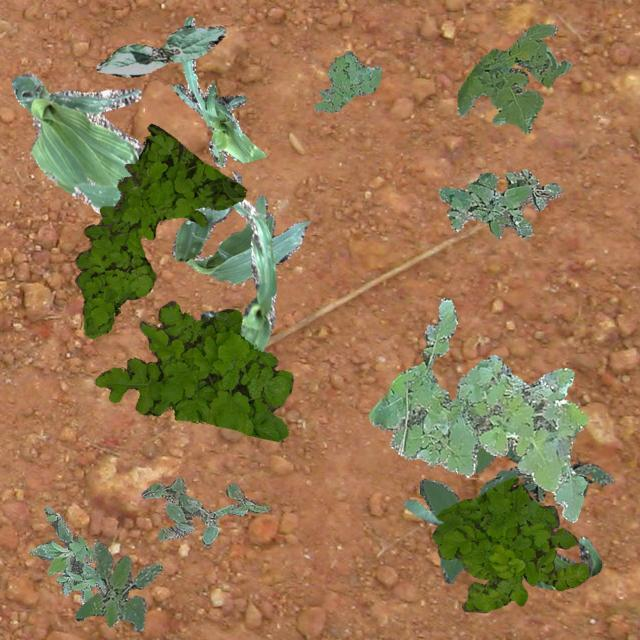crop: (10, 72, 142, 212), (402, 498, 600, 588), (170, 172, 308, 284), (170, 15, 264, 166), (194, 198, 276, 350), (96, 24, 224, 76)
weed: (368, 298, 588, 522), (74, 122, 245, 338), (418, 440, 614, 582), (95, 300, 292, 440), (432, 476, 590, 612), (456, 23, 570, 132), (140, 476, 268, 546), (438, 168, 562, 236), (74, 538, 160, 630), (28, 506, 106, 602), (312, 50, 380, 112)
